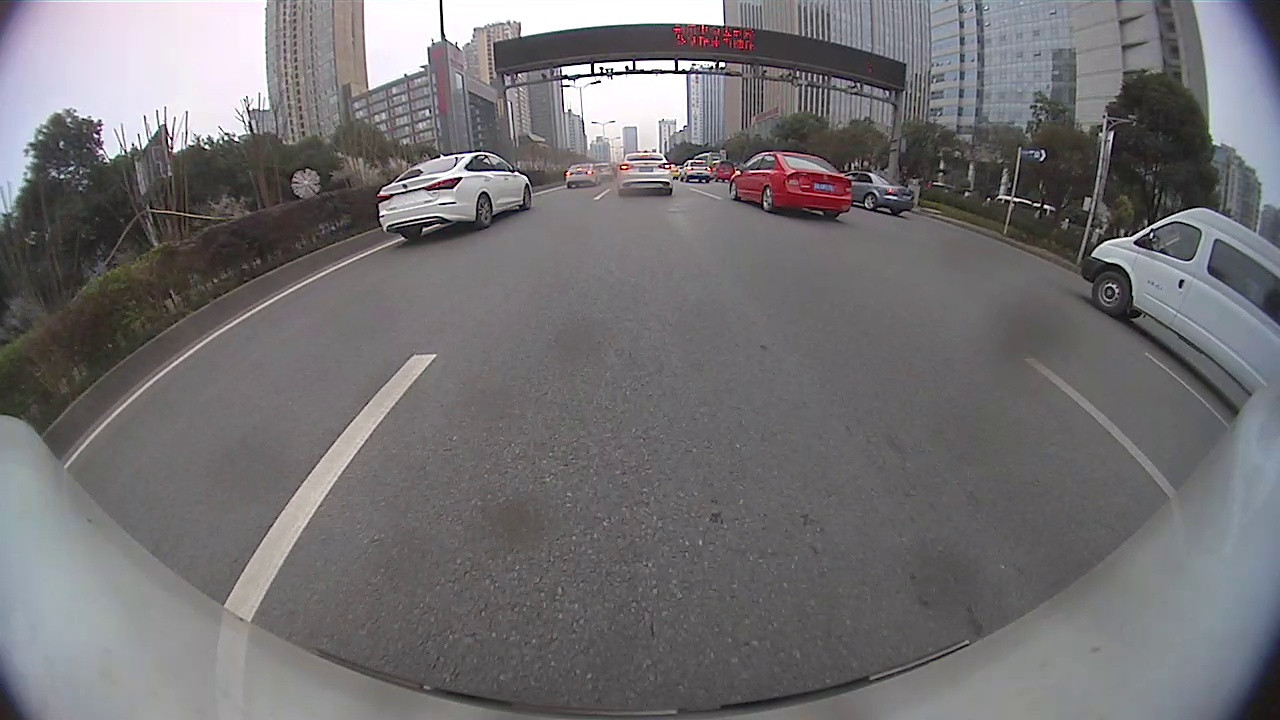car: (1079, 205, 1278, 394), (376, 150, 534, 241), (729, 148, 854, 218), (847, 170, 916, 218), (614, 150, 672, 195), (561, 160, 600, 186), (678, 156, 712, 181)
front: (1091, 271, 1131, 317), (521, 183, 534, 209), (729, 183, 739, 200)
rear: (475, 190, 494, 229), (760, 186, 776, 212), (863, 190, 877, 212)
